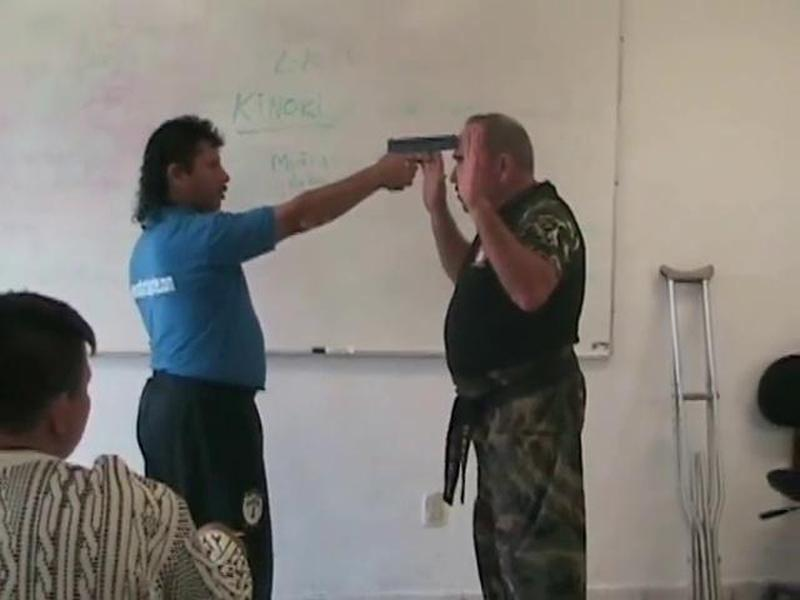Pistola: (375, 129, 476, 207)
